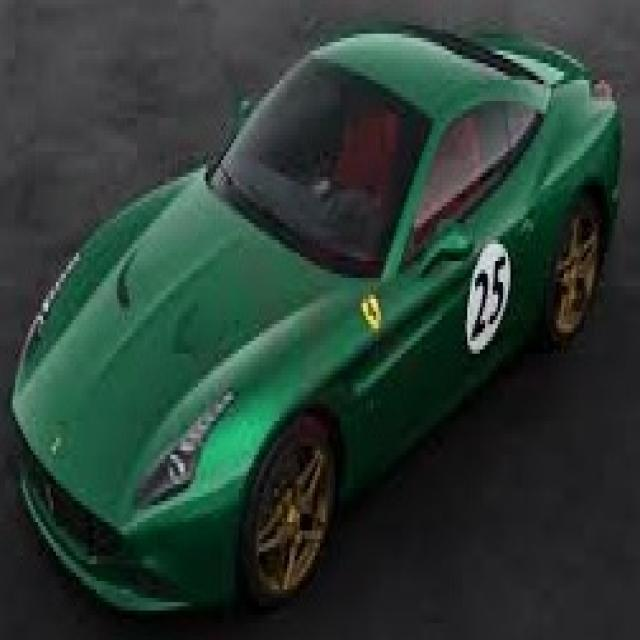green: (5, 13, 628, 624)
